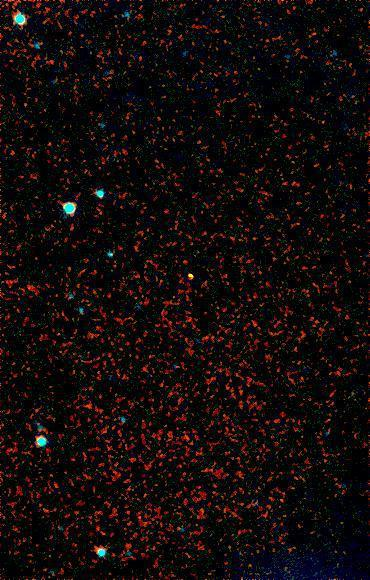star: (174, 260, 204, 290)
